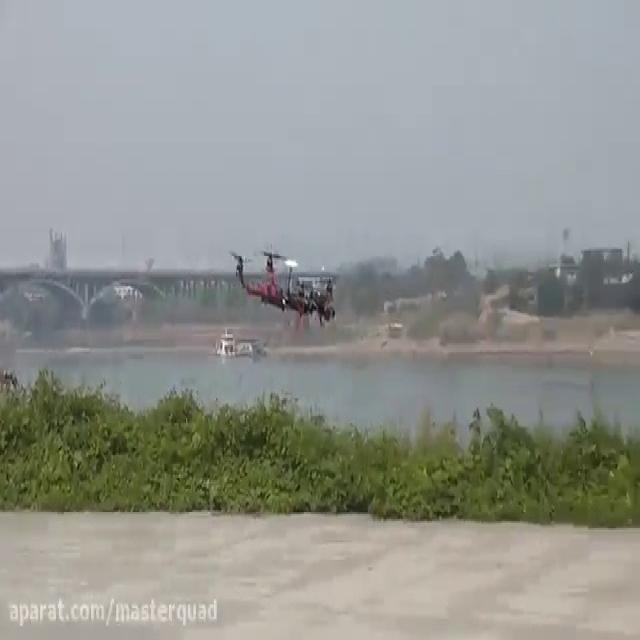drone: (223, 238, 338, 331)
